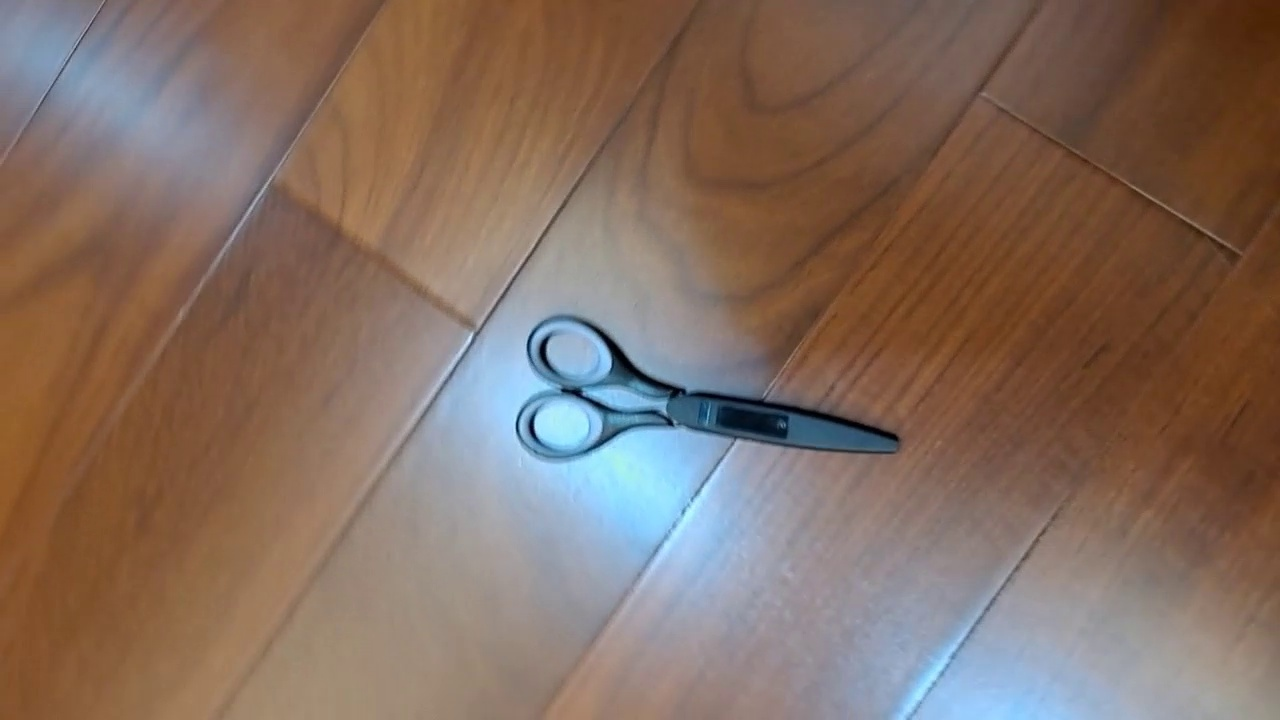scissors: (514, 313, 902, 463)
